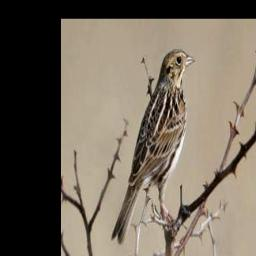Sparrow: (108, 43, 198, 251)
